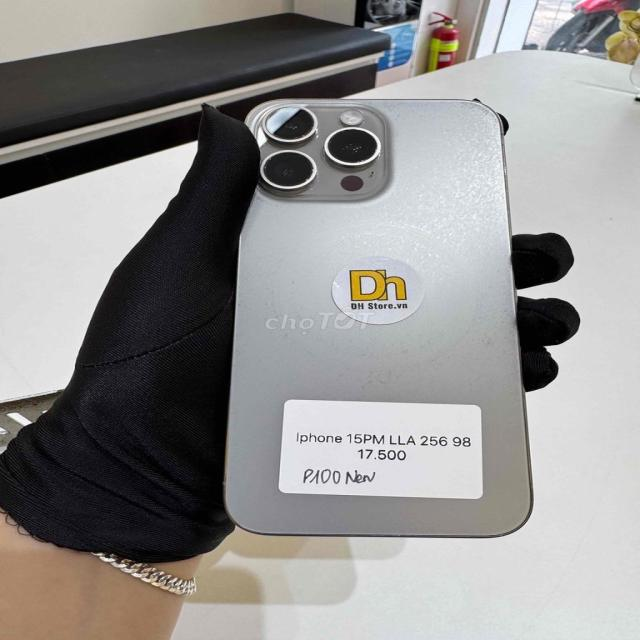scratch: (252, 260, 319, 380), (336, 360, 468, 398), (477, 204, 521, 306), (439, 86, 514, 130), (372, 95, 451, 127), (470, 306, 507, 354)
